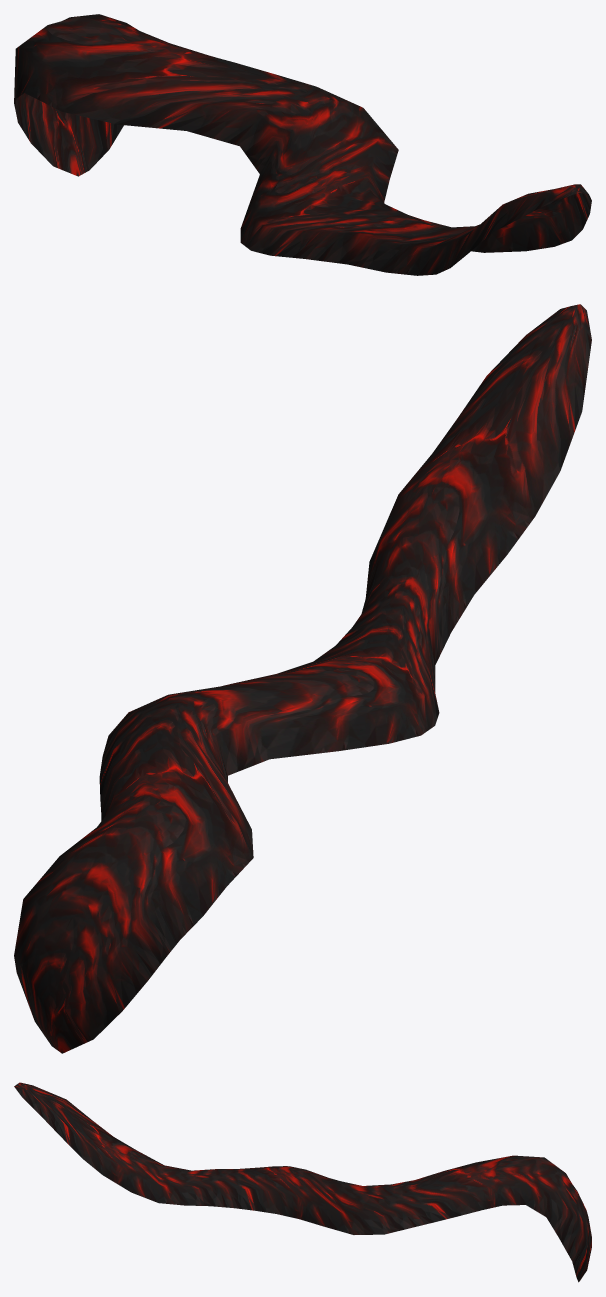
Rendered from desert_SM_Env_Lava_River_04.gltf.
3 views of the same model, one above another, from view 1: azimuth 30°, elevation 25°; view 2: azimuth 150°, elevation 25°; view 3: azimuth 270°, elevation 25° (orthographic). The views are drawn at different scales.
Visible parts, largest first — view 1: SM_Env_Lava_River_04; view 2: SM_Env_Lava_River_04; view 3: SM_Env_Lava_River_04.
Boxes of the visible parts, left/top/right/bottom form: SM_Env_Lava_River_04: left=14, top=14, right=591, bottom=275; SM_Env_Lava_River_04: left=14, top=304, right=591, bottom=1053; SM_Env_Lava_River_04: left=14, top=1082, right=591, bottom=1282.
Size of the model in its own units: 8.6 by 12.41 by 32.57.
Materials: 1 (1 with a texture image).
